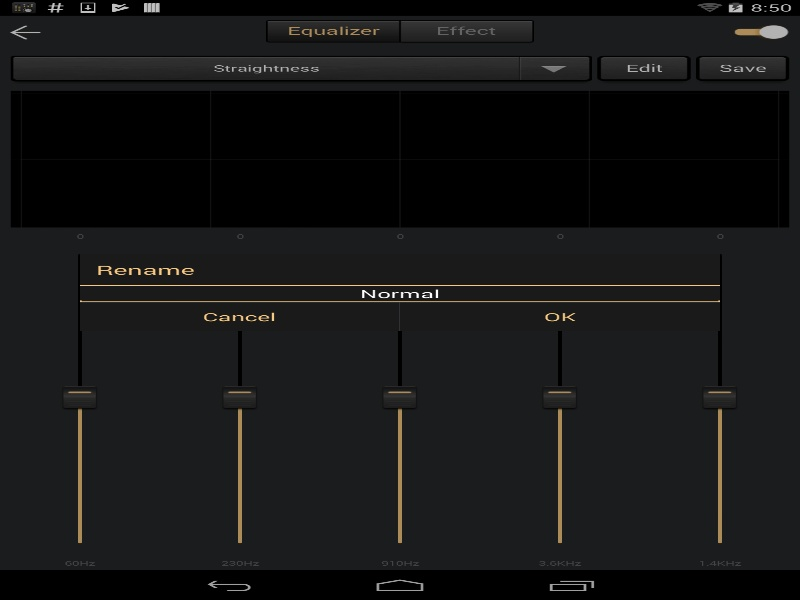Input: (80, 285, 720, 302)
